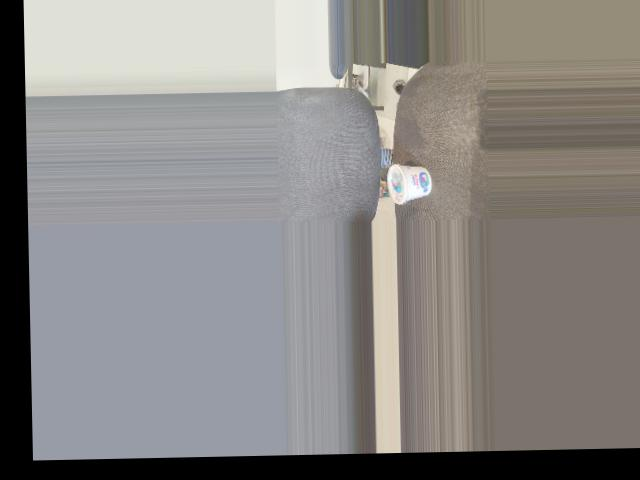cotage: (386, 161, 434, 204)
